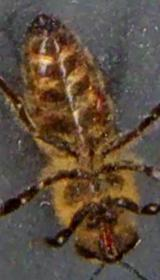varroa_mite: (81, 82, 115, 120)
